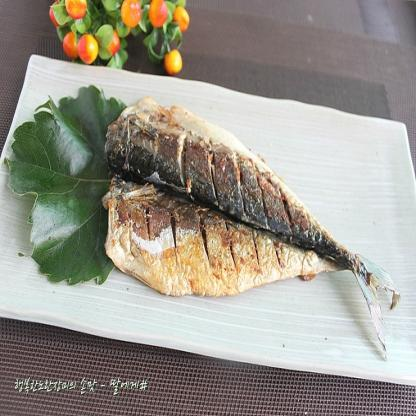Peixe: (102, 90, 406, 360)
